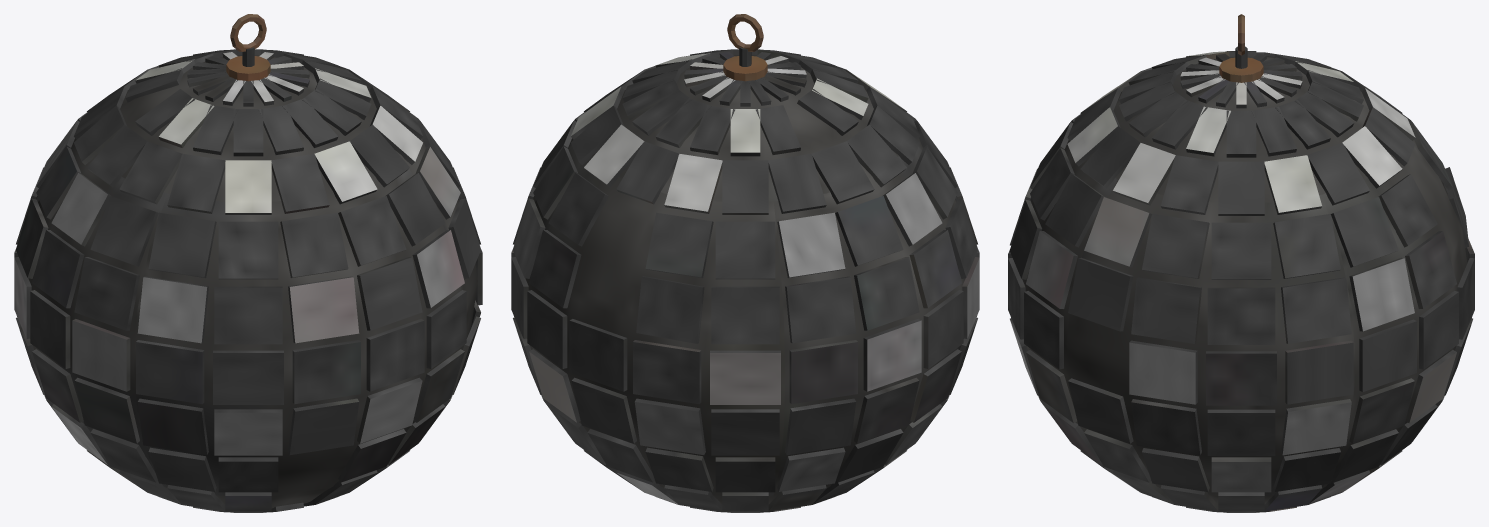
File: Q19_disco_ball.glb
3 renders of one model, left to right at view 1: azimuth 30°, elevation 25°; view 2: azimuth 150°, elevation 25°; view 3: azimuth 270°, elevation 25°, orthographic.
Visible parts, largest first — view 1: Exposed dark disco ball backing; view 2: Exposed dark disco ball backing; view 3: Exposed dark disco ball backing.
Boxes of the visible parts, x1,y1,x2,y2 form: Exposed dark disco ball backing: [14, 14, 482, 512]; Exposed dark disco ball backing: [511, 14, 979, 512]; Exposed dark disco ball backing: [1008, 14, 1474, 512].
Size of the model in its own units: 0.4386 by 0.5 by 0.4436.
5 materials, 5 textured.
